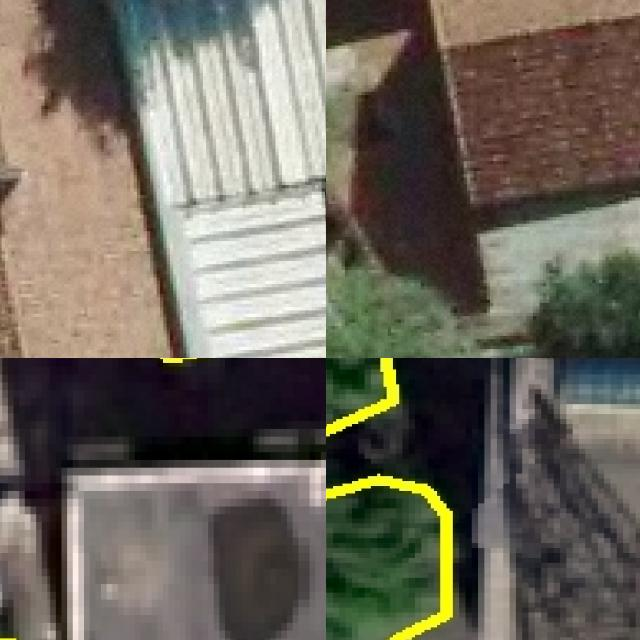trees: (327, 480, 447, 640), (327, 278, 470, 359), (537, 261, 640, 359)
